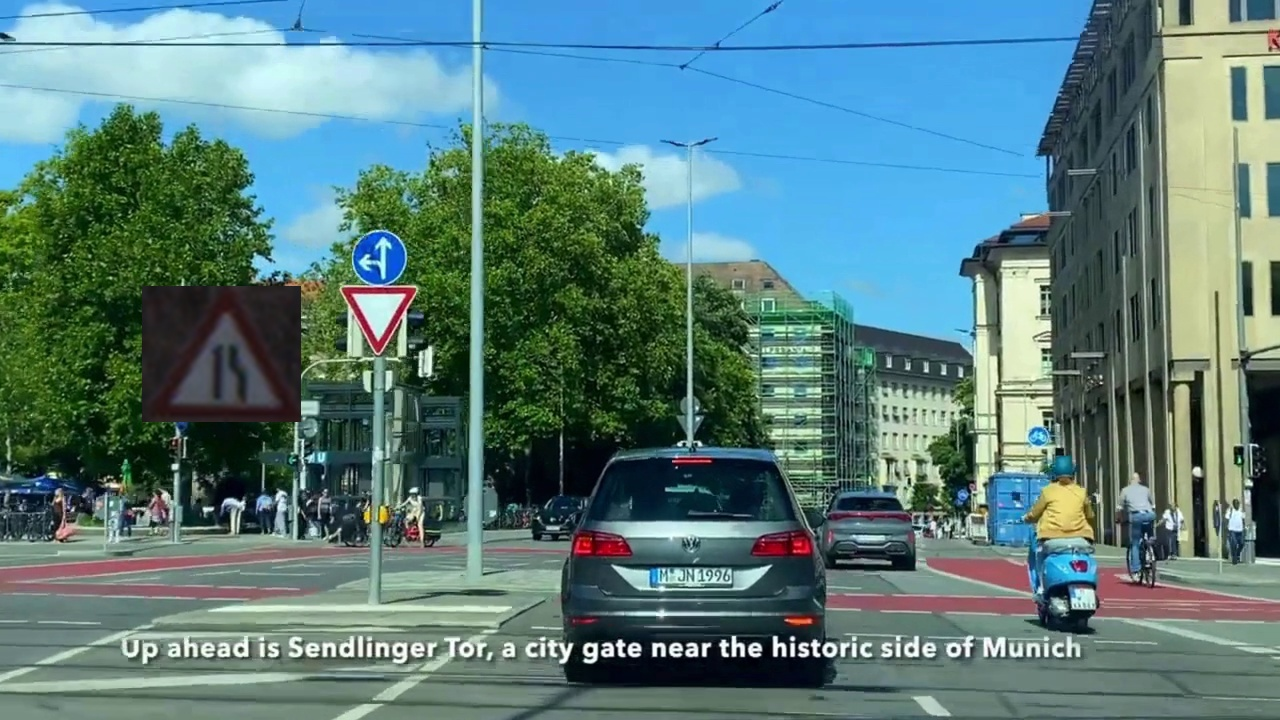Road narrows: (142, 286, 301, 422)
